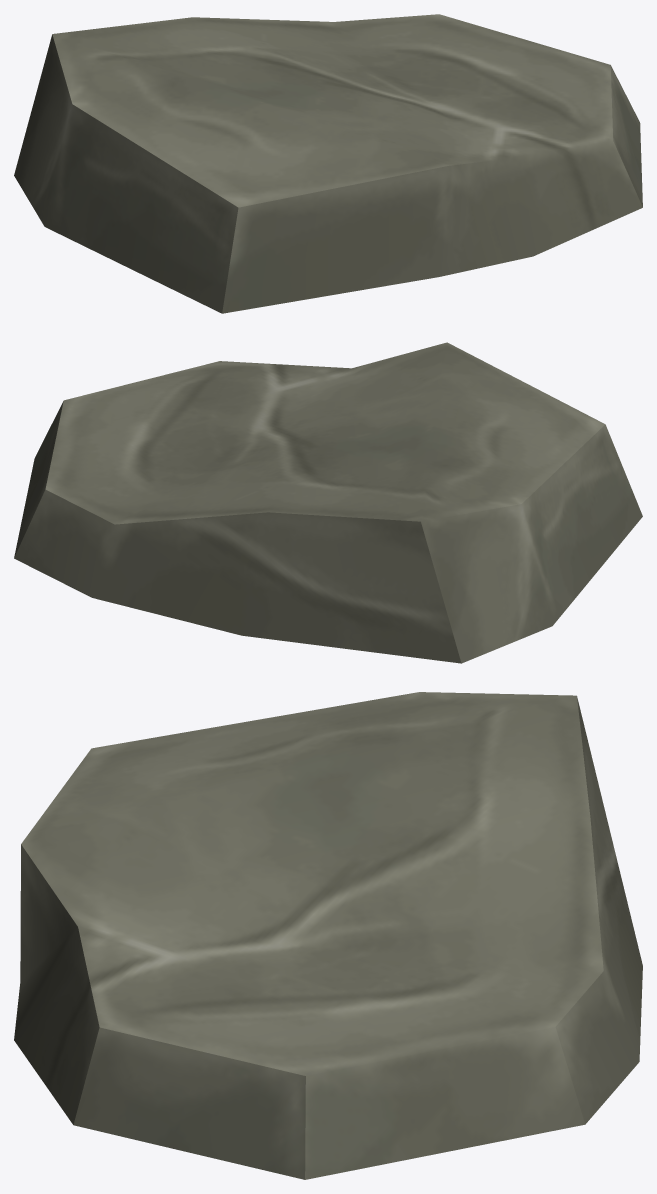
The model's file is Rock_04.fbx.
The picture shows the model from 3 angles, top to bottom: view 1: azimuth 30°, elevation 25°; view 2: azimuth 150°, elevation 25°; view 3: azimuth 270°, elevation 25°; orthographic projection. The views are drawn at different scales.
Parts seen in each view (by area): view 1: polySurface586; view 2: polySurface586; view 3: polySurface586.
Boxes of the visible parts, x1,y1,x2,y2 form: polySurface586: (14, 14, 642, 313); polySurface586: (14, 342, 642, 663); polySurface586: (14, 692, 642, 1179).
Size of the model in its own units: 90.32 by 20.47 by 67.49.
Materials: 1 (1 with a texture image).
